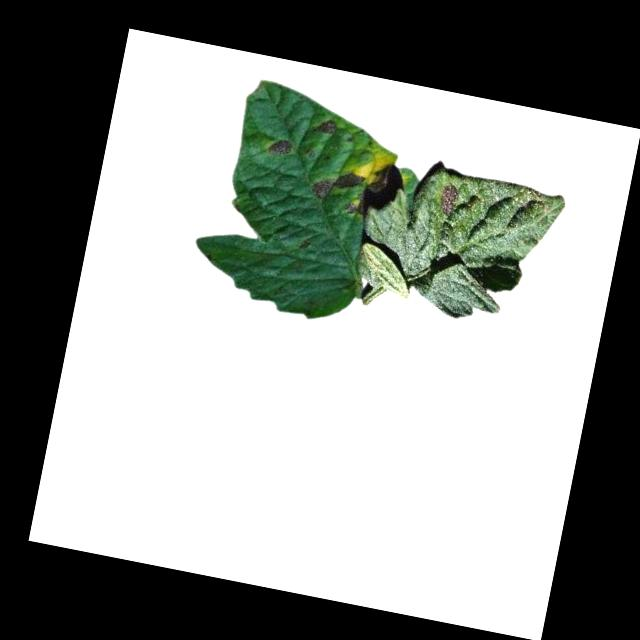Early_blight: (308, 163, 365, 204), (434, 179, 462, 219), (268, 133, 298, 160), (310, 114, 339, 136)
